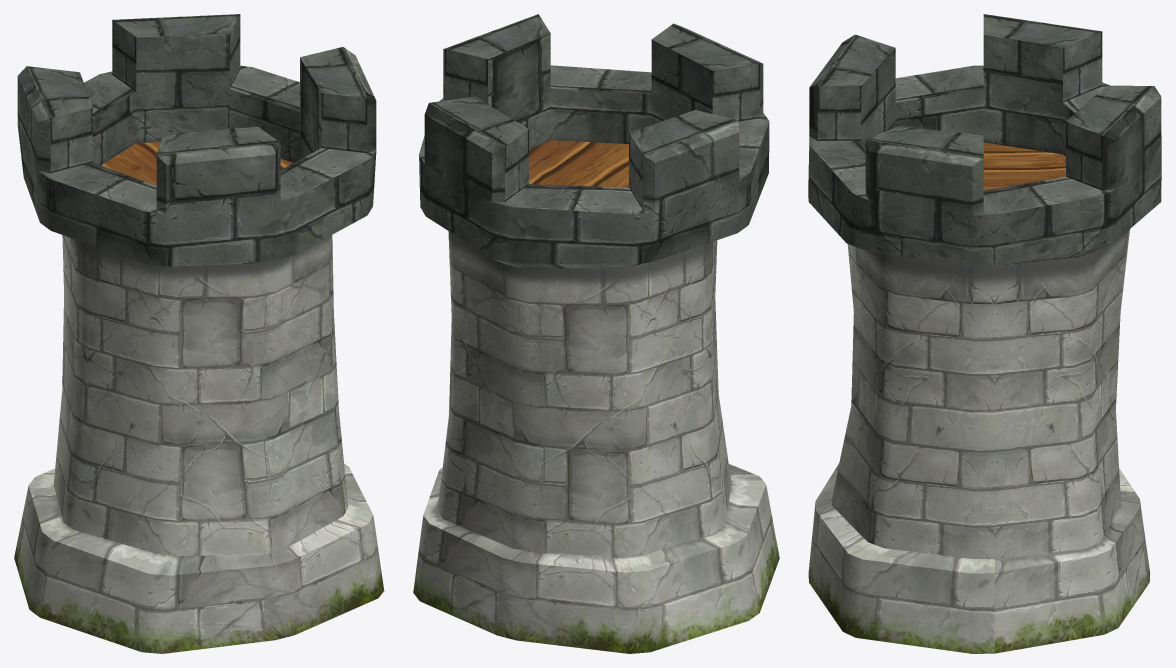
File: Tower_01.FBX
3 views of the same model, side by side, from view 1: azimuth 30°, elevation 25°; view 2: azimuth 150°, elevation 25°; view 3: azimuth 270°, elevation 25° (orthographic).
Visible parts, largest first — view 1: Tower_01; view 2: Tower_01; view 3: Tower_01.
Part boxes in pixels (box(x1,y1,x2,y2)): Tower_01: box(14, 14, 384, 653); Tower_01: box(413, 14, 779, 653); Tower_01: box(808, 14, 1161, 653).
Bounding box in the file's own units: 236 × 348 × 226.
